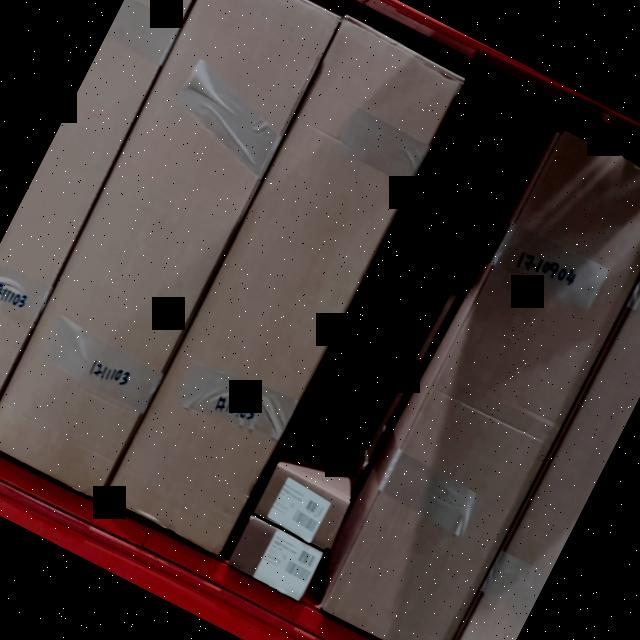box: (103, 19, 462, 555), (0, 0, 339, 496), (320, 131, 640, 640), (253, 467, 349, 551), (228, 518, 322, 599)
